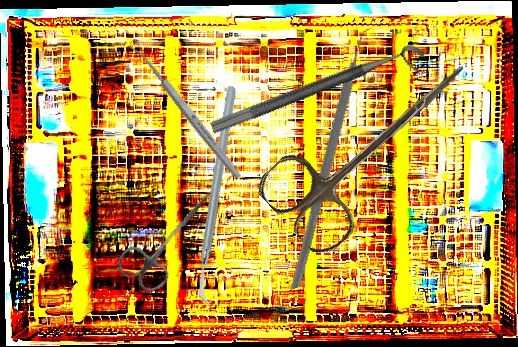Chopper: (223, 22, 454, 291), (121, 83, 317, 311)
Fixation Ring: (209, 40, 431, 153)
Iris Scissors: (251, 25, 495, 262), (112, 173, 230, 299)
Surgical Spoon: (127, 37, 244, 181)
